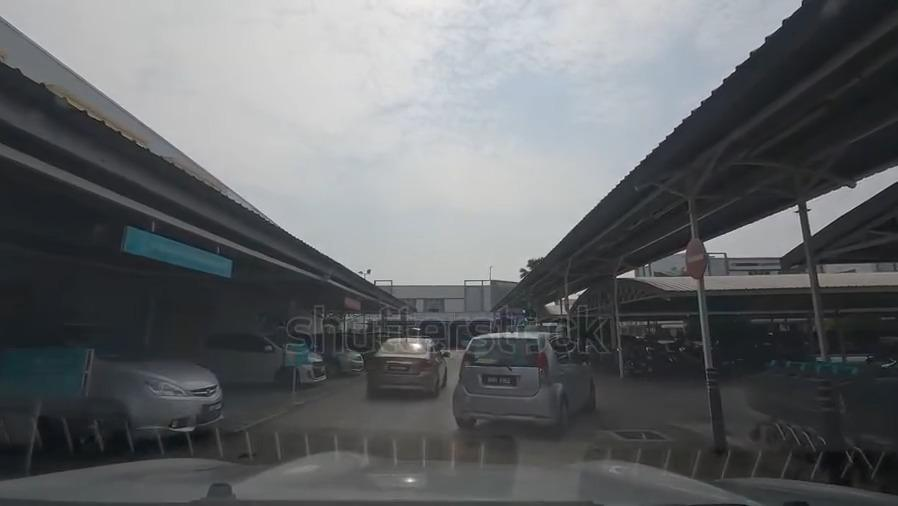car: (20, 327, 223, 433), (453, 338, 597, 428), (196, 332, 328, 387), (361, 339, 450, 398), (320, 347, 364, 380)
manhole: (611, 425, 663, 446)
wheel: (82, 403, 127, 455), (559, 395, 571, 437), (281, 367, 298, 389), (585, 382, 597, 410), (329, 357, 339, 378)
